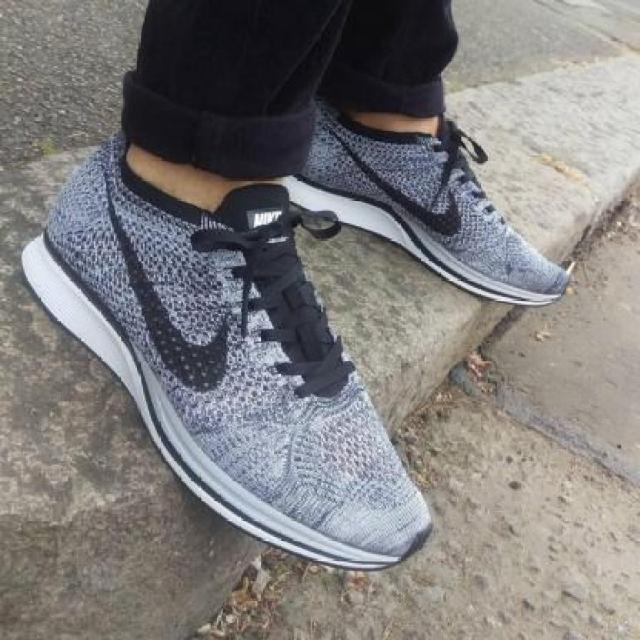shoe: (30, 200, 432, 568), (303, 106, 575, 289)
